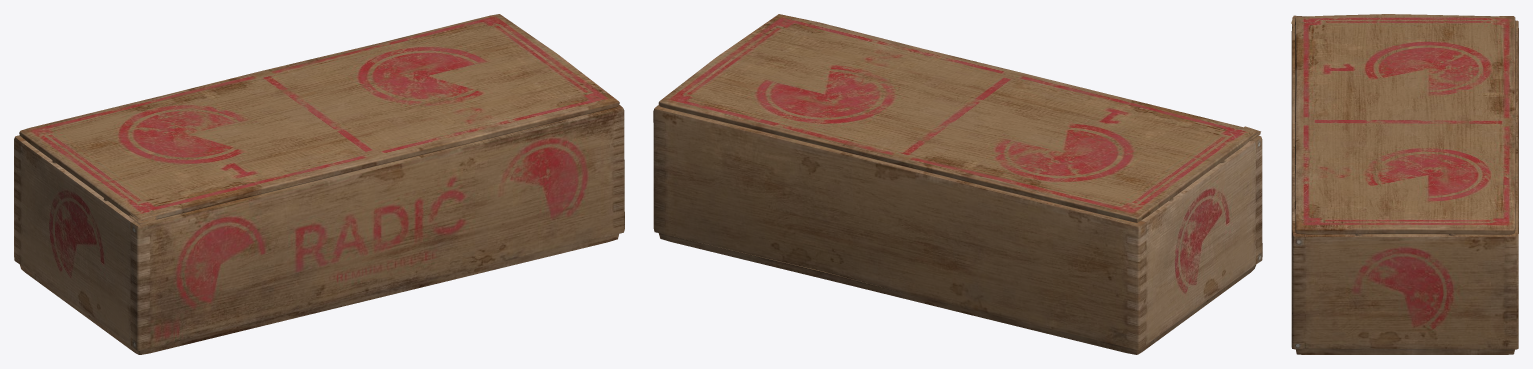
File: CheeseBox_01.glb
3 views of the same model, side by side, from view 1: azimuth 30°, elevation 25°; view 2: azimuth 150°, elevation 25°; view 3: azimuth 270°, elevation 25° (orthographic). The views are drawn at different scales.
Parts seen in each view (by area): view 1: CheeseBox_01, CheeseBox_01_lid; view 2: CheeseBox_01, CheeseBox_01_lid; view 3: CheeseBox_01_lid, CheeseBox_01.
Boxes of the visible parts, x1,y1,x2,y2 form: CheeseBox_01: (14,105,624,354); CheeseBox_01_lid: (19,14,619,225); CheeseBox_01: (653,105,1262,354); CheeseBox_01_lid: (658,14,1260,222); CheeseBox_01_lid: (1291,14,1516,234); CheeseBox_01: (1291,20,1518,354).
Size of the model in its own units: 0.2404 by 0.066 by 0.1066.
1 material, 1 textured.
